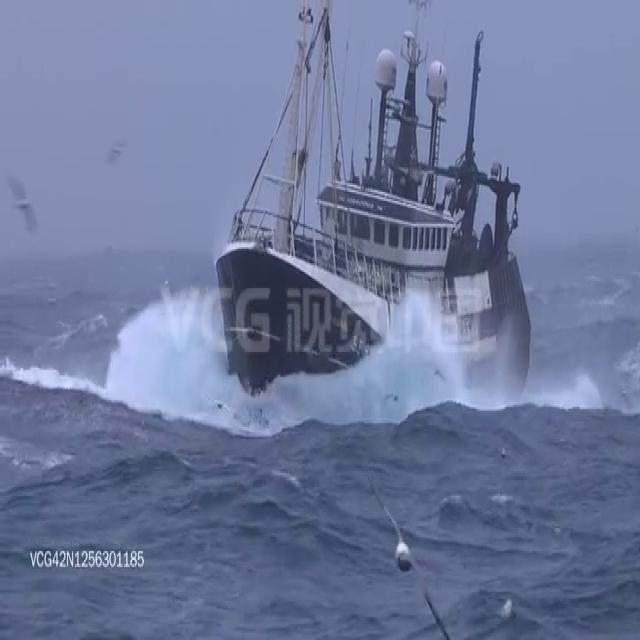houseboat: (213, 0, 531, 430)
